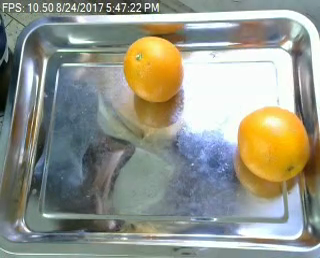Orange: (236, 107, 310, 183), (123, 36, 184, 102)
